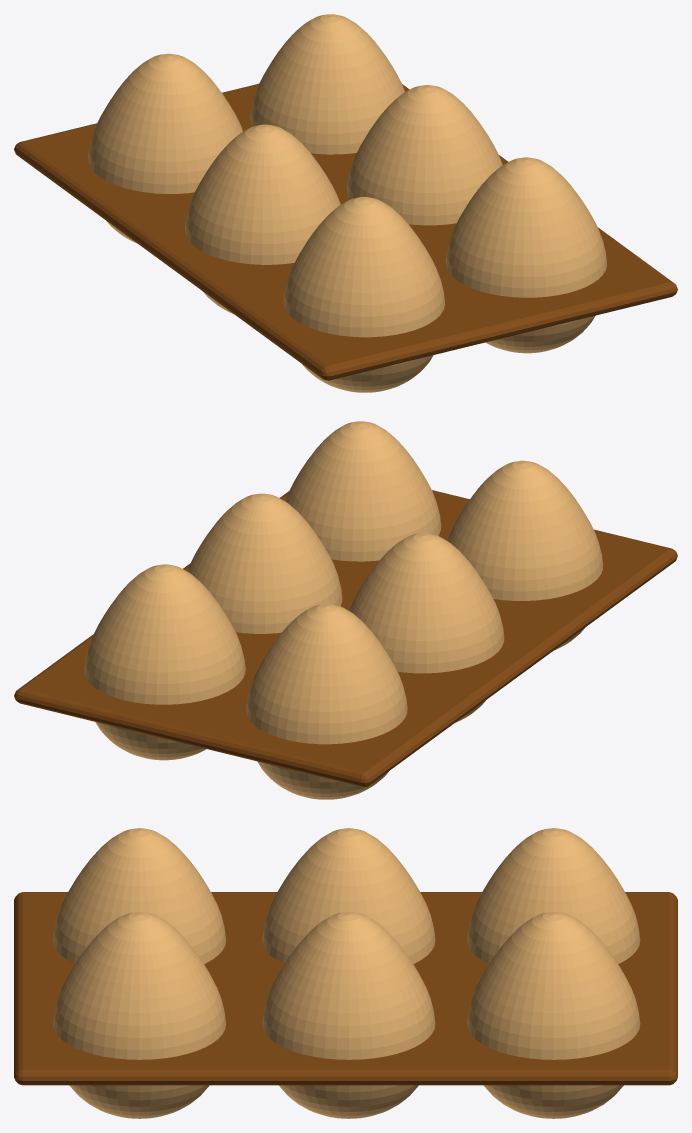
The model's file is Eggs.fbx.
The picture shows the model from 3 angles, top to bottom: view 1: azimuth 30°, elevation 25°; view 2: azimuth 150°, elevation 25°; view 3: azimuth 270°, elevation 25°; orthographic projection. The views are drawn at different scales.
Visible parts, largest first — view 1: Sphere.003; view 2: Sphere.003; view 3: Sphere.003.
Boxes of the visible parts, left/top/right/bottom form: Sphere.003: left=14, top=14, right=677, bottom=392; Sphere.003: left=14, top=421, right=677, bottom=799; Sphere.003: left=14, top=828, right=677, bottom=1118.
Bounding box in the file's own units: 3.64 × 1.79 × 5.54.
